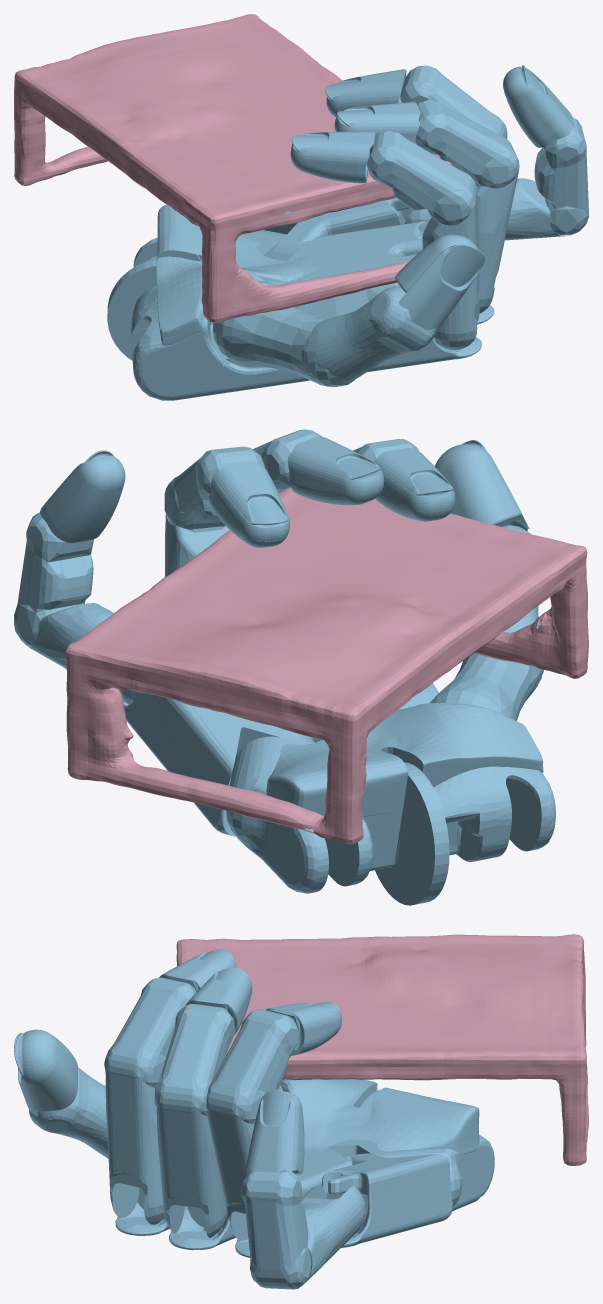
3 views of the same model, one above another, from view 1: azimuth 30°, elevation 25°; view 2: azimuth 150°, elevation 25°; view 3: azimuth 270°, elevation 25° (orthographic). The views are drawn at different scales.
Parts seen in each view (by area): view 1: hand, world; view 2: world, hand; view 3: hand, world.
Boxes of the visible parts, box(x1,y1,x2,y2) form: hand: box(107, 65, 588, 400); world: box(14, 14, 451, 322); world: box(65, 487, 588, 844); hand: box(14, 429, 555, 905); hand: box(14, 949, 494, 1289); world: box(176, 934, 588, 1165).
Bounding box in the file's own units: 0.1694 × 0.1033 × 0.1828.
